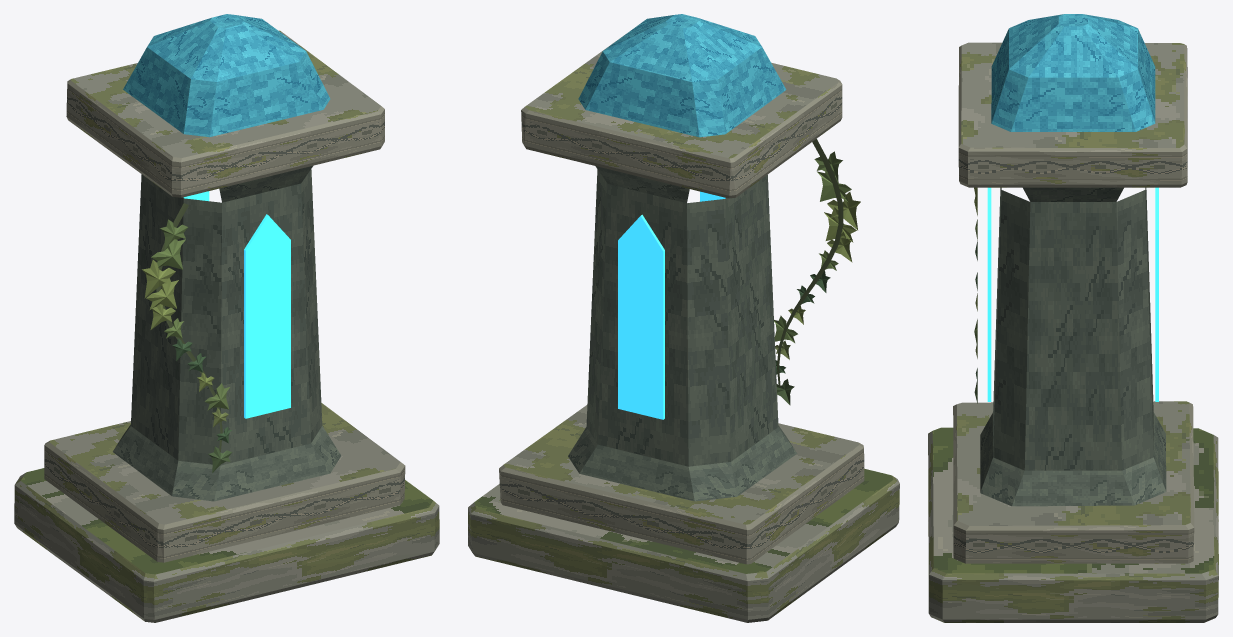
Rendered from shrine_charge.glb.
3 views of the same model, side by side, from view 1: azimuth 30°, elevation 25°; view 2: azimuth 150°, elevation 25°; view 3: azimuth 270°, elevation 25° (orthographic). The views are drawn at different scales.
Visible parts, largest first — view 1: shrine_charge; view 2: shrine_charge; view 3: shrine_charge.
Boxes of the visible parts, left/top/right/bottom form: shrine_charge: left=14, top=14, right=439, bottom=622; shrine_charge: left=468, top=14, right=899, bottom=622; shrine_charge: left=928, top=14, right=1218, bottom=622.
Size of what is drawn, in the model's own units: 1.45 by 2.4 by 1.2.
Materials: 4 (2 with a texture image).
